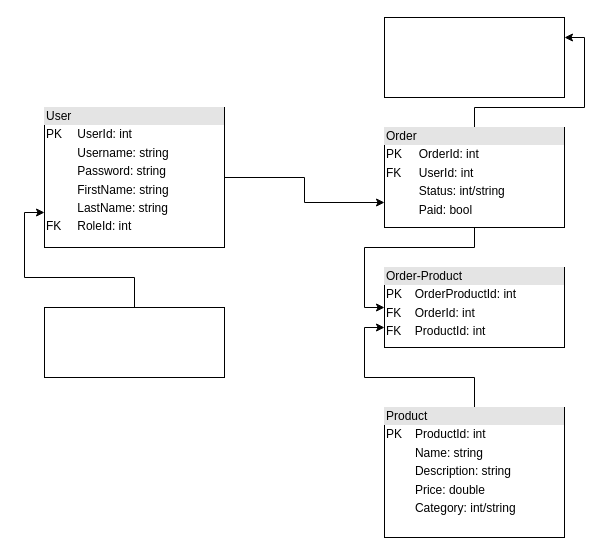
This 610x555 diagram has some shape labels left out. Here are the shapes that lost their labels. From the top down, the centre of each, then its label:
At (x=474, y=57): "Invoice PK InvoiceId: int FK OrderId: int WithCard: bool".
At (x=134, y=342): "Role PK RoleId: int Name: string".
